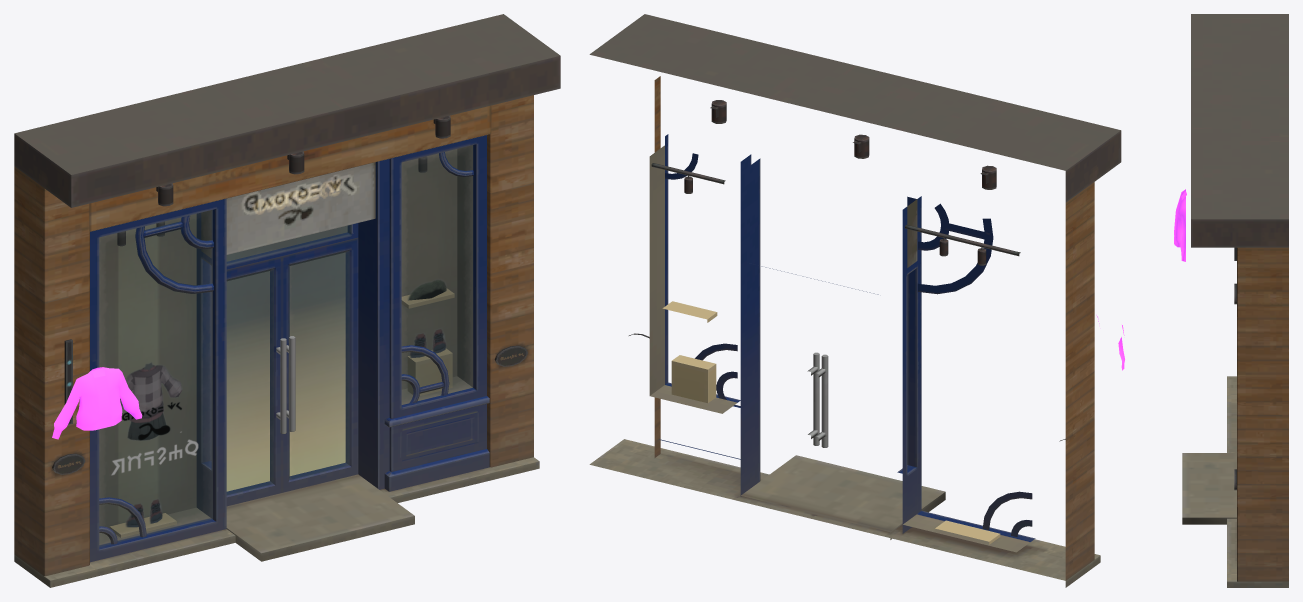
File: t1_b_boutique2_c.glb
3 views of the same model, side by side, from view 1: azimuth 30°, elevation 25°; view 2: azimuth 150°, elevation 25°; view 3: azimuth 270°, elevation 25° (orthographic). The views are drawn at different scales.
Visible parts, largest first — view 1: nomerge_t1_b_boutique2_c_mesh; view 2: nomerge_t1_b_boutique2_c_mesh; view 3: nomerge_t1_b_boutique2_c_mesh.
Boxes of the visible parts, x1=… form: nomerge_t1_b_boutique2_c_mesh: x1=14, y1=14, x2=560, y2=587; nomerge_t1_b_boutique2_c_mesh: x1=589, y1=14, x2=1124, y2=587; nomerge_t1_b_boutique2_c_mesh: x1=1174, y1=14, x2=1288, y2=587.
Bounding box in the file's own units: 5.75 × 4.6 × 1.3.
Materials: 4 (3 with a texture image).
